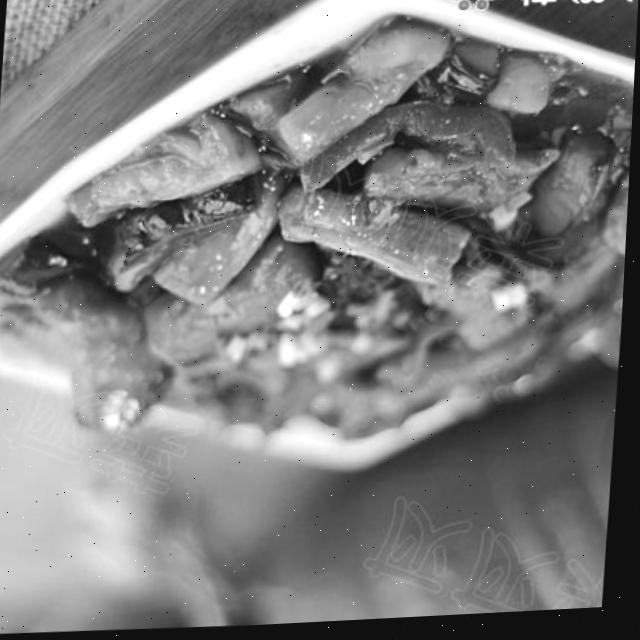鸡蛋料理: (0, 0, 639, 552)
